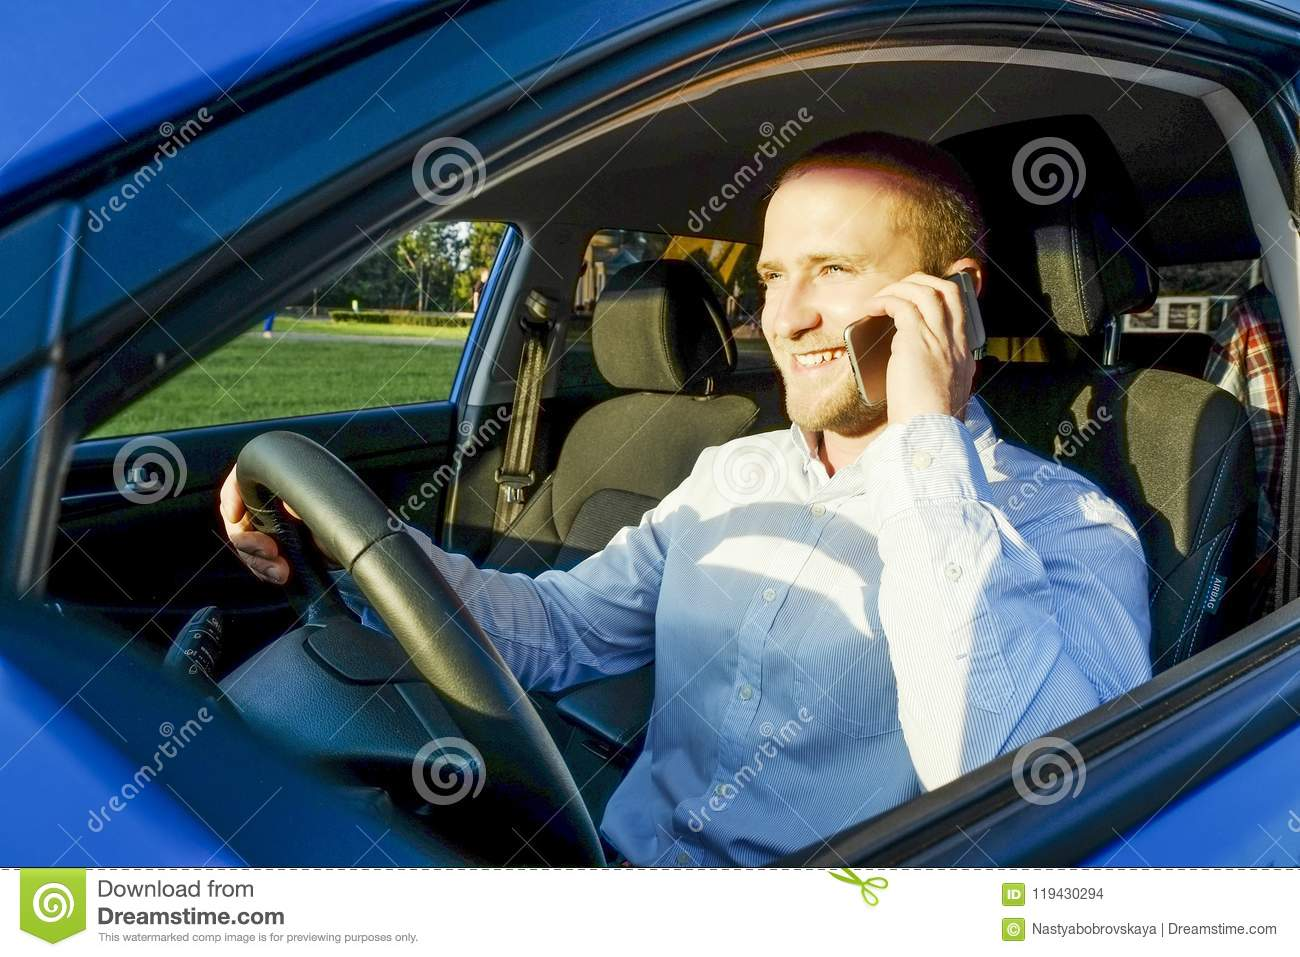phone: (846, 267, 986, 399)
talk: (758, 245, 988, 449)
